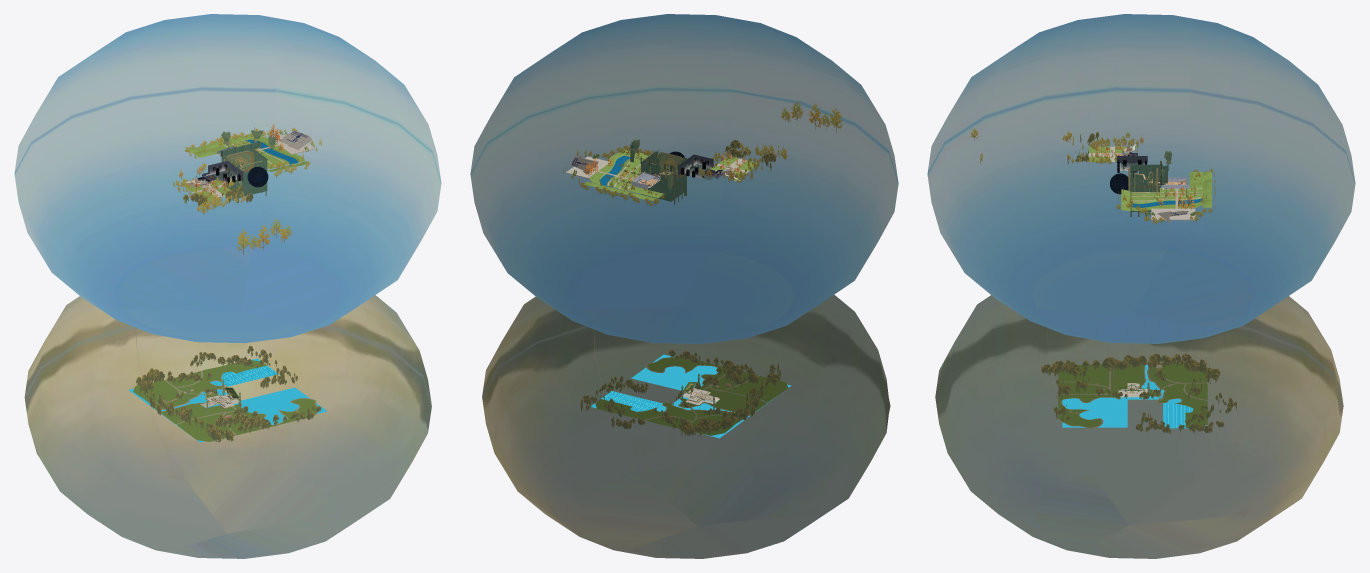
The model's file is track.glb.
The picture shows the model from 3 angles, left to right: view 1: azimuth 30°, elevation 25°; view 2: azimuth 150°, elevation 25°; view 3: azimuth 270°, elevation 25°; orthographic projection.
Visible parts, largest first — view 1: sky:E_Sichuan02_Sky_01, sky:E_Sichuan02_Sky_02, E_Sichuan02_Hua_01, E_Sichuan02_Jisi_lumian03|lm1, E_SunnyCrush_Terrain_Water_01, E_Sichuan02_Tree_02, E_Sichuan02_Ground_03|lm1, E_Sichuan02_Qiang_07|lm1; view 2: sky:E_Sichuan02_Sky_01, sky:E_Sichuan02_Sky_02, E_Sichuan02_Hua_01, E_Sichuan02_Jisi_lumian03|lm1, E_Sichuan02_Tree_02, E_SunnyCrush_Terrain_Water_01, E_Sichuan02_Ground_03|lm1, E_Sichuan02_Qiang_07|lm1, E_Sichuan02_Jisi_Dimian_03|lm1, E_Sichuan02_Qiang_08|lm2; view 3: sky:E_Sichuan02_Sky_01, sky:E_Sichuan02_Sky_02, E_Sichuan02_Jisi_lumian03|lm1, E_Sichuan02_Hua_01, E_SunnyCrush_Terrain_Water_01, E_Sichuan02_Ground_03|lm1, E_Sichuan02_Tree_02, E_Sichuan02_Jisi_Dimian_03|lm1, E_Sichuan02_Qiang_07|lm1.
Boxes of the visible parts, x1=… form: sky:E_Sichuan02_Sky_01: x1=14, y1=14, x2=441, y2=343; sky:E_Sichuan02_Sky_02: x1=24, y1=295, x2=431, y2=558; E_Sichuan02_Hua_01: x1=136, y1=141, x2=321, y2=442; E_Sichuan02_Jisi_lumian03|lm1: x1=133, y1=360, x2=316, y2=441; E_SunnyCrush_Terrain_Water_01: x1=129, y1=358, x2=327, y2=442; E_Sichuan02_Tree_02: x1=173, y1=127, x2=321, y2=254; E_Sichuan02_Ground_03|lm1: x1=184, y1=134, x2=310, y2=200; E_Sichuan02_Qiang_07|lm1: x1=220, y1=141, x2=267, y2=197; sky:E_Sichuan02_Sky_01: x1=470, y1=14, x2=898, y2=343; sky:E_Sichuan02_Sky_02: x1=482, y1=294, x2=890, y2=558; E_Sichuan02_Hua_01: x1=580, y1=140, x2=780, y2=436; E_Sichuan02_Jisi_lumian03|lm1: x1=595, y1=357, x2=788, y2=435; E_Sichuan02_Tree_02: x1=563, y1=101, x2=843, y2=205; E_SunnyCrush_Terrain_Water_01: x1=590, y1=354, x2=791, y2=438; E_Sichuan02_Ground_03|lm1: x1=583, y1=149, x2=759, y2=200; E_Sichuan02_Qiang_07|lm1: x1=633, y1=151, x2=686, y2=201; E_Sichuan02_Jisi_Dimian_03|lm1: x1=566, y1=156, x2=748, y2=190; E_Sichuan02_Qiang_08|lm2: x1=630, y1=144, x2=686, y2=204; sky:E_Sichuan02_Sky_01: x1=927, y1=14, x2=1355, y2=343; sky:E_Sichuan02_Sky_02: x1=935, y1=295, x2=1343, y2=558; E_Sichuan02_Jisi_lumian03|lm1: x1=1058, y1=363, x2=1207, y2=427; E_Sichuan02_Hua_01: x1=1041, y1=132, x2=1236, y2=434; E_SunnyCrush_Terrain_Water_01: x1=1062, y1=365, x2=1206, y2=428; E_Sichuan02_Ground_03|lm1: x1=1089, y1=146, x2=1211, y2=211; E_Sichuan02_Tree_02: x1=970, y1=128, x2=1215, y2=224; E_Sichuan02_Jisi_Dimian_03|lm1: x1=1089, y1=146, x2=1202, y2=220; E_Sichuan02_Qiang_07|lm1: x1=1130, y1=161, x2=1162, y2=211.
Size of the model in its own units: 17265 by 21624 by 17371.
132 materials, 129 textured.
